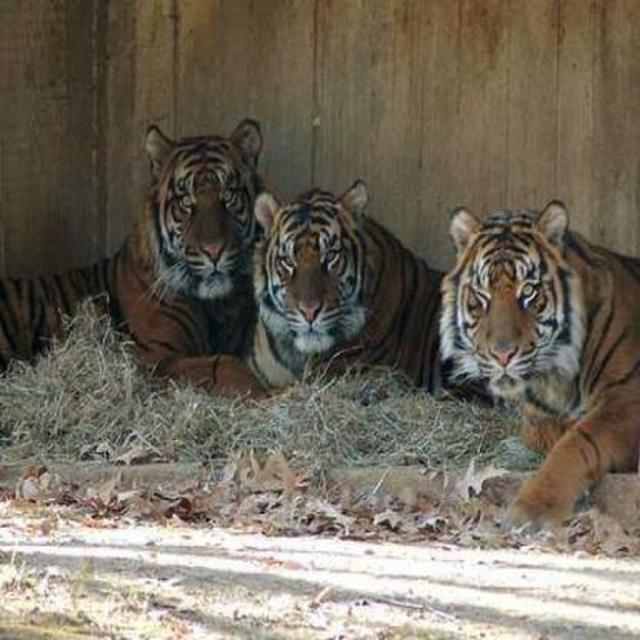tiger: (0, 116, 269, 402), (435, 197, 639, 534), (245, 177, 447, 398)
